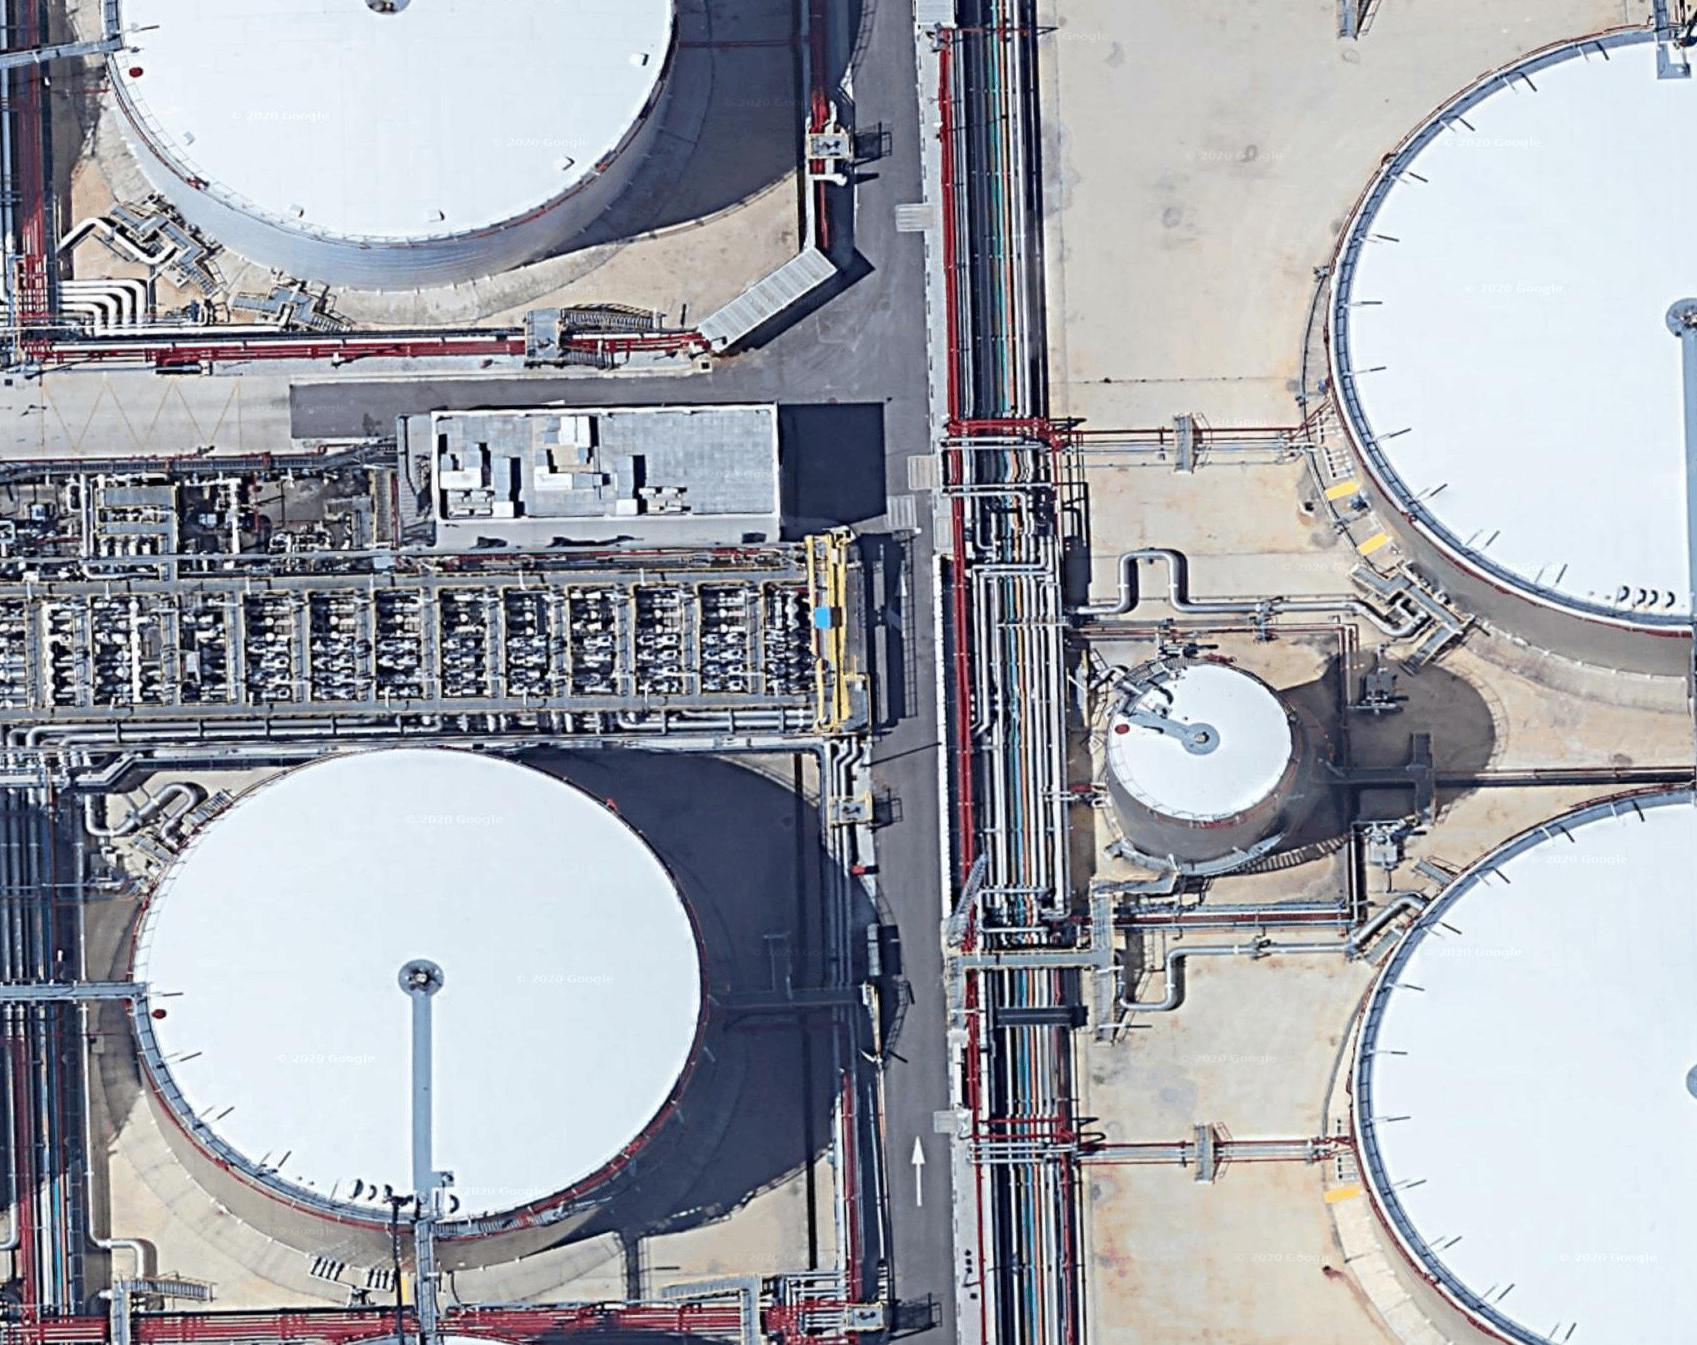storage-tank: (109, 723, 741, 1261), (1299, 8, 1696, 659), (1339, 759, 1697, 1345), (79, 1, 712, 241), (1106, 657, 1292, 827)
